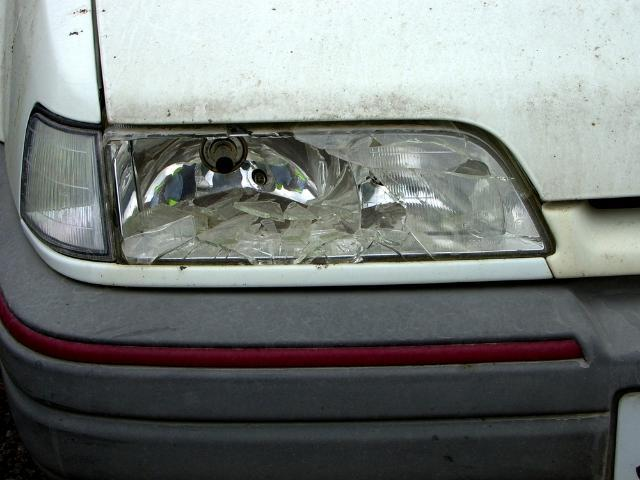lamp broken: (104, 121, 553, 265)
